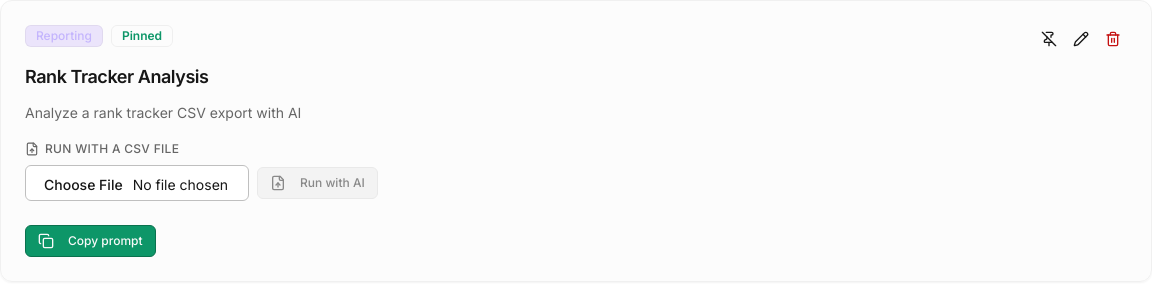
it: WorkflowCard - action tooltips (B-24) › swaps the pin tooltip to Unpin wording once a workflow is pinned
Step 1. Hover over the button with test id "button-pin-7" → [1049, 39], box [1035,25,1063,53]
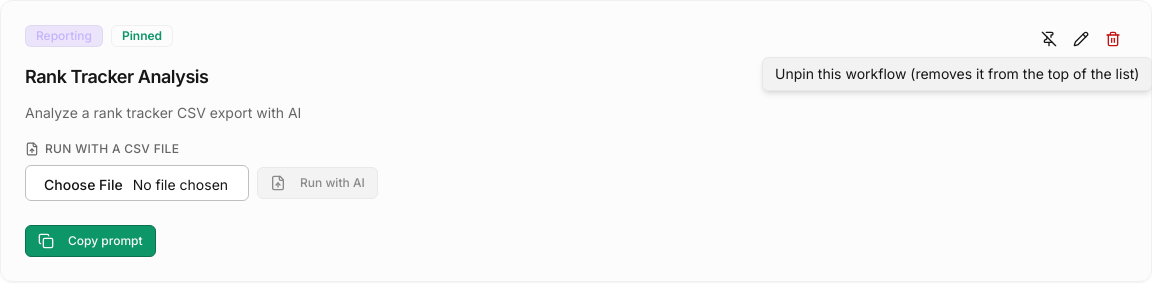
Result: the tooltip "Unpin this workflow (removes it from the top of the list)" is shown at [762,57,1151,91]
